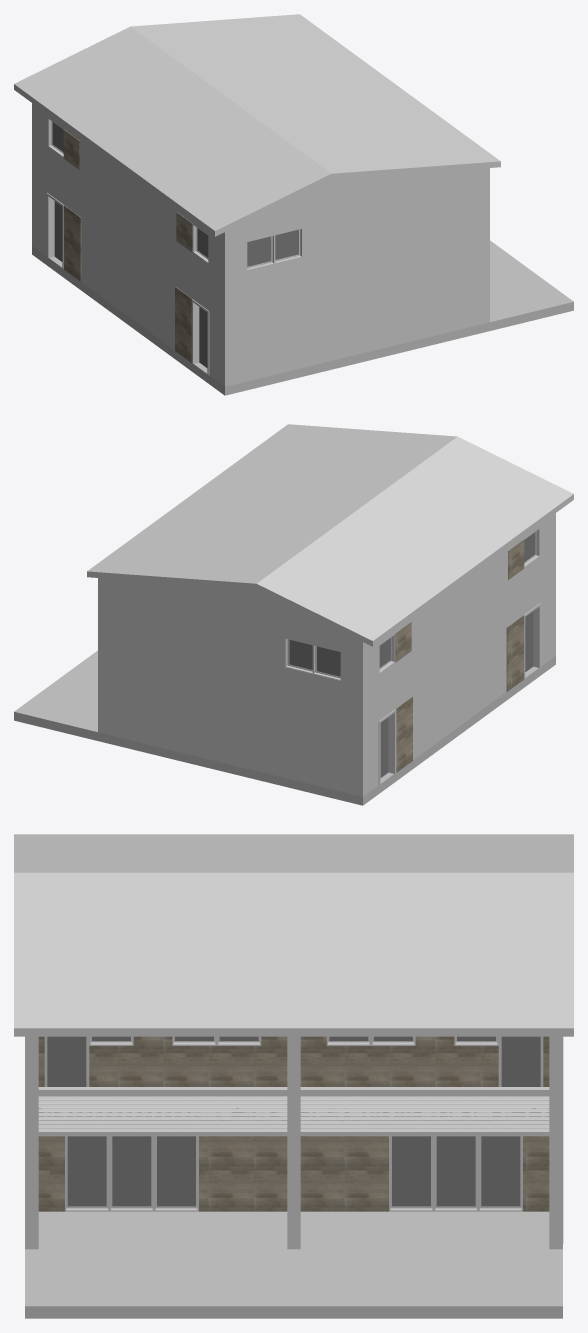
File: 100house.fbx
3 views of the same model, one above another, from view 1: azimuth 30°, elevation 25°; view 2: azimuth 150°, elevation 25°; view 3: azimuth 270°, elevation 25° (orthographic). The views are drawn at different scales.
Visible parts, largest first — view 1: Floor strecha [229956], Basic Wall 260 [202631], Basic Wall 260 [217626], Basic Wall 260 [202466], Basic Wall 260 [217624], Pad Pad 1 [255019], Basic Wall 100 [229423], Generic Models 5 Generic Models 5 [275709], M_Concrete-Square-Column 300 x 300mm [229598], M_Single-Flush 1000 [231170], M_Fixed 1000 2 [229925], M_Fixed 1000 2 [229926] (+2 smaller); view 2: Floor strecha [229956], Basic Wall 260 [202631].001, Basic Wall 260 [217626].001, Basic Wall 260 [202466], Basic Wall 260 [217624], Pad Pad 1 [255019], Basic Wall 100 [229423].001, Generic Models 5 Generic Models 5 [275709], M_Concrete-Square-Column 300 x 300mm [228900], M_Single-Flush 1000 [231170].001, M_Fixed 1000 2 [229758], M_Fixed 1000 2 [229810] (+2 smaller); view 3: Floor strecha [229956], Pad Pad 1 [255019], Floor 100 - terasa [229237], Basic Wall 260 [217628], Basic Wall 260 [202804], Generic Models 3 Generic Models 3 [230726], M_Fixed 1000 [228077], M_Fixed 1000 [209936], M_Fixed 1000 [231106], M_Fixed 1000 [209718], M_Fixed 1000 [209950], M_Fixed 1000 [231105] (+4 smaller).
Part boxes in pixels (box(x1,y1,x2,y2)): Floor strecha [229956]: box(14, 14, 500, 236); Basic Wall 260 [202631]: box(232, 252, 434, 384); Basic Wall 260 [217626]: box(232, 172, 434, 300); Basic Wall 260 [202466]: box(32, 161, 232, 386); Basic Wall 260 [217624]: box(32, 103, 232, 302); Pad Pad 1 [255019]: box(32, 240, 573, 395); Basic Wall 100 [229423]: box(431, 168, 481, 335); Generic Models 5 Generic Models 5 [275709]: box(63, 129, 192, 362); M_Concrete-Square-Column 300 x 300mm [229598]: box(481, 168, 489, 323); M_Single-Flush 1000 [231170]: box(191, 299, 209, 375); M_Fixed 1000 2 [229925]: box(274, 228, 302, 263); M_Fixed 1000 2 [229926]: box(247, 235, 274, 270); Floor strecha [229956]: box(87, 424, 573, 646); Basic Wall 260 [202631].001: box(153, 662, 355, 794); Basic Wall 260 [217626].001: box(153, 582, 355, 710); Basic Wall 260 [202466]: box(355, 571, 555, 796); Basic Wall 260 [217624]: box(355, 513, 555, 712); Pad Pad 1 [255019]: box(14, 650, 555, 805); Basic Wall 100 [229423].001: box(106, 578, 156, 745); Generic Models 5 Generic Models 5 [275709]: box(395, 539, 524, 772); M_Concrete-Square-Column 300 x 300mm [228900]: box(98, 578, 105, 733); M_Single-Flush 1000 [231170].001: box(378, 709, 396, 785); M_Fixed 1000 2 [229758]: box(285, 638, 313, 673); M_Fixed 1000 2 [229810]: box(313, 645, 340, 680); Floor strecha [229956]: box(14, 834, 573, 1036); Pad Pad 1 [255019]: box(25, 1211, 562, 1318); Floor 100 - terasa [229237]: box(29, 1096, 558, 1136); Basic Wall 260 [217628]: box(38, 1036, 549, 1086); Basic Wall 260 [202804]: box(38, 1136, 549, 1211); Generic Models 3 Generic Models 3 [230726]: box(38, 1087, 549, 1128); M_Fixed 1000 [228077]: box(44, 1036, 543, 1086); M_Fixed 1000 [209936]: box(433, 1136, 478, 1211); M_Fixed 1000 [231106]: box(109, 1136, 154, 1211); M_Fixed 1000 [209718]: box(478, 1136, 522, 1211); M_Fixed 1000 [209950]: box(389, 1136, 433, 1211); M_Fixed 1000 [231105]: box(65, 1136, 109, 1211).
Size of the model in its own units: 1308 by 688 by 1255.
